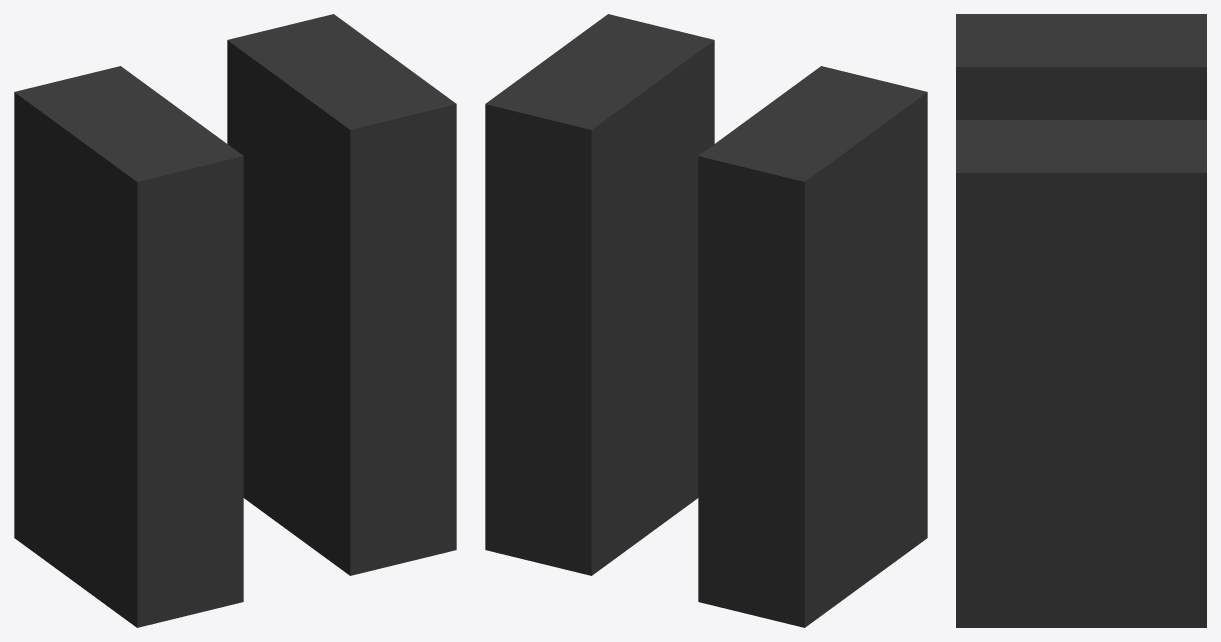
Rendered from track-equip-barrier-bracket.gltf.
The picture shows the model from 3 angles, left to right: view 1: azimuth 30°, elevation 25°; view 2: azimuth 150°, elevation 25°; view 3: azimuth 270°, elevation 25°; orthographic projection. The views are drawn at different scales.
Parts seen in each view (by area): view 1: track-equip-barrier-bracket_model; view 2: track-equip-barrier-bracket_model; view 3: track-equip-barrier-bracket_model.
Boxes of the visible parts, x1,y1,x2,y2 form: track-equip-barrier-bracket_model: (14, 14, 456, 627); track-equip-barrier-bracket_model: (485, 14, 927, 627); track-equip-barrier-bracket_model: (956, 14, 1206, 627).
Size of the model in its own units: 0.3 by 0.4 by 0.2.
1 material, 1 textured.
